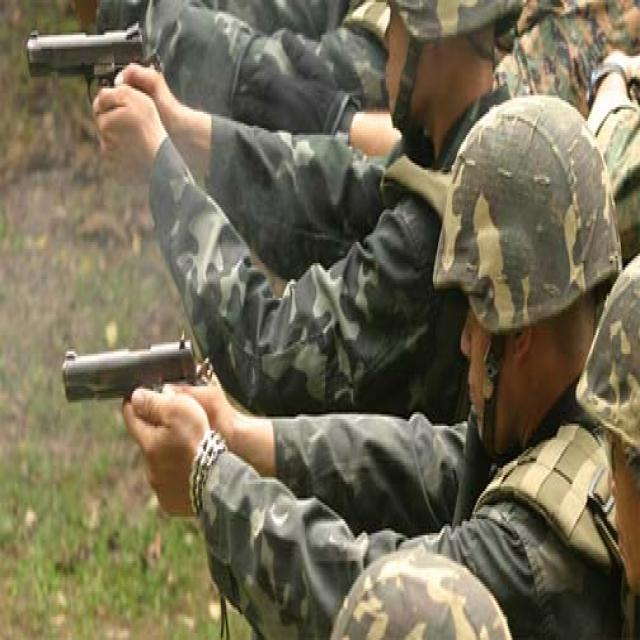gun: (56, 330, 207, 475), (20, 10, 164, 116)
